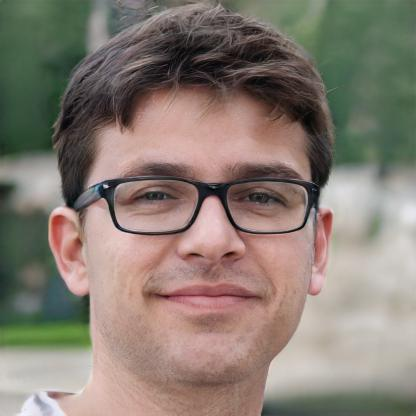glasses: (95, 169, 319, 244)
